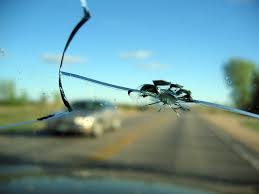bullseye: (120, 69, 208, 133)
scratch: (53, 1, 99, 127)
